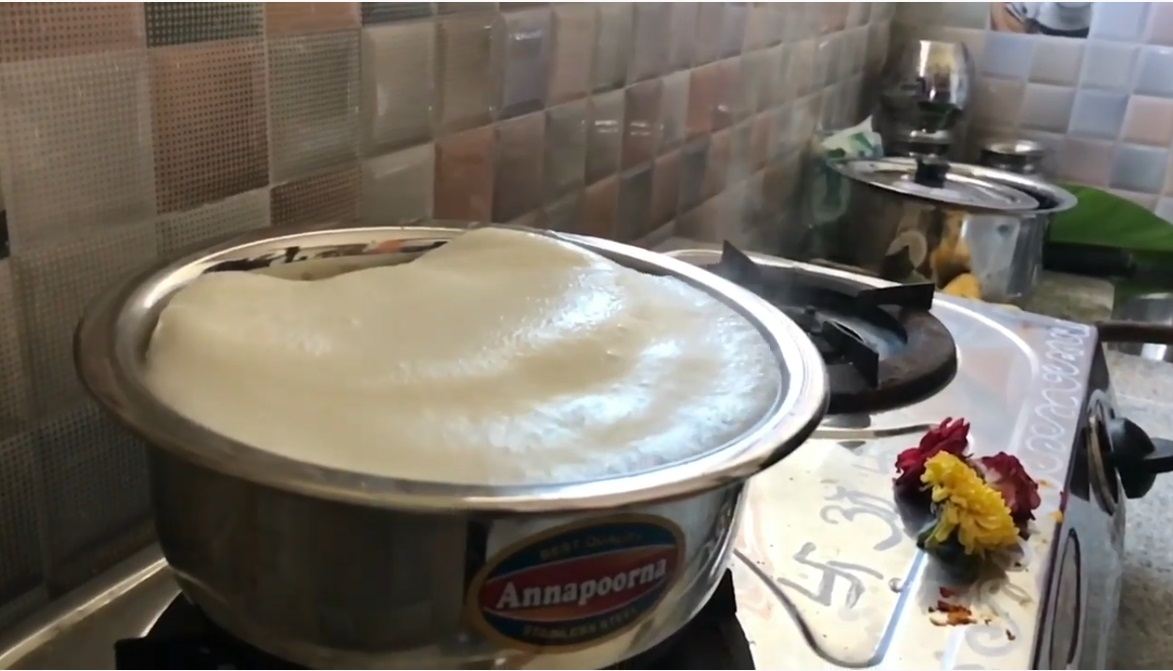Boiled: (68, 209, 835, 671)
